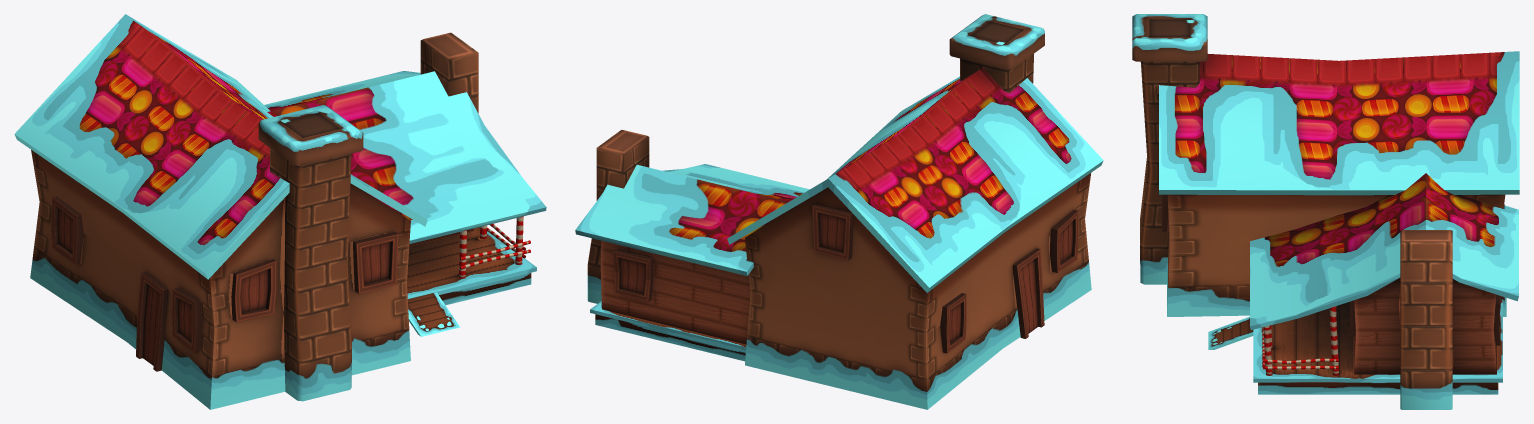
The model's file is House10.FBX.
The picture shows the model from 3 angles, left to right: view 1: azimuth 30°, elevation 25°; view 2: azimuth 150°, elevation 25°; view 3: azimuth 270°, elevation 25°; orthographic projection. The views are drawn at different scales.
Parts seen in each view (by area): view 1: House10; view 2: House10; view 3: House10.
Part boxes in pixels (left/top/right/bottom): House10: left=14, top=14, right=546, bottom=409; House10: left=575, top=14, right=1103, bottom=409; House10: left=1132, top=14, right=1519, bottom=409.
Size of the model in its own units: 262 by 158 by 227.
1 material, 1 textured.
